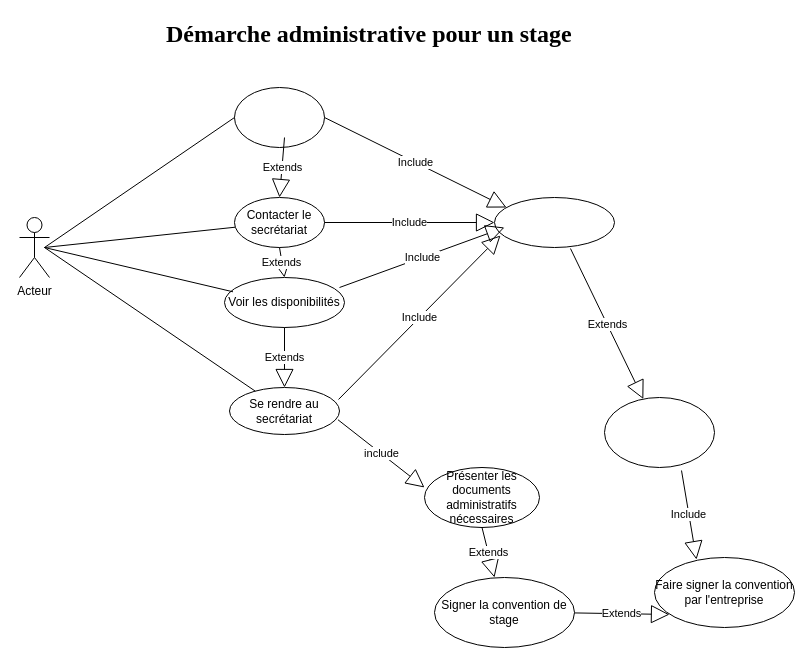
The diagram is 812 pixels wide and 665 high, and some of its shapes have lost their labels. Each missing label, with the box of its shape:
Faire un stage: (234, 86, 324, 148)
Obtenir la convention en 3 exemplaires: (604, 396, 714, 468)
Obtenir la signature de l'université: (494, 196, 614, 248)
